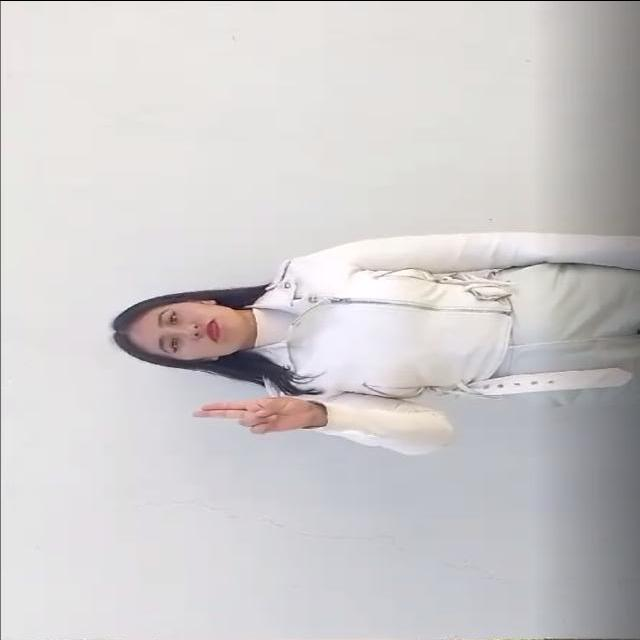U: (178, 378, 338, 450)
